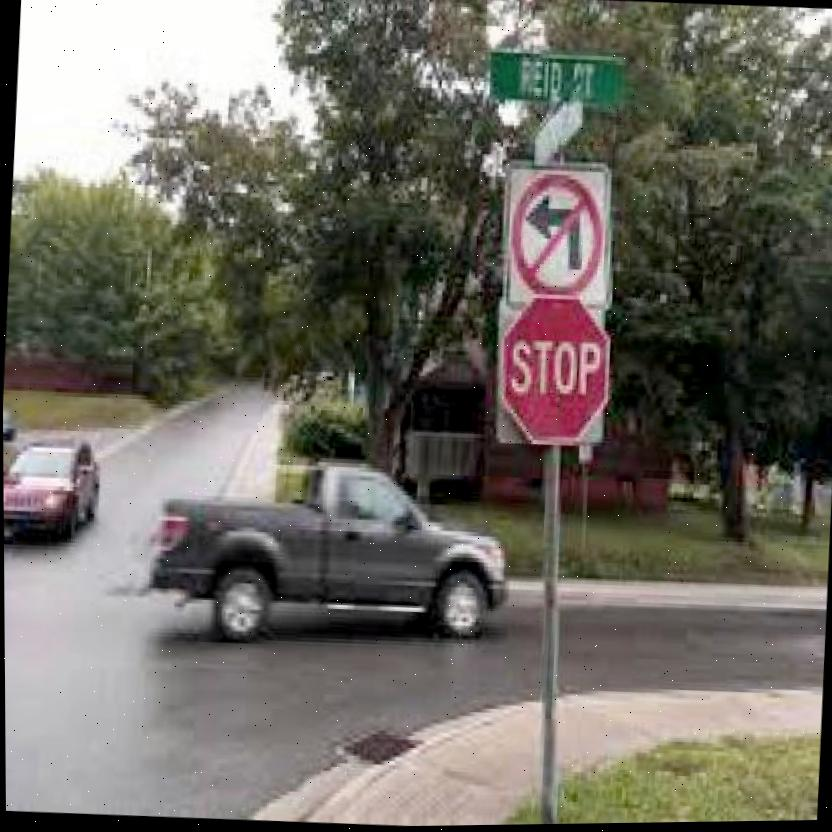Pole: (520, 446, 578, 826)
Sign: (498, 294, 612, 452)
